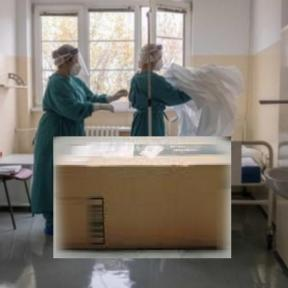box: (51, 134, 234, 260)
